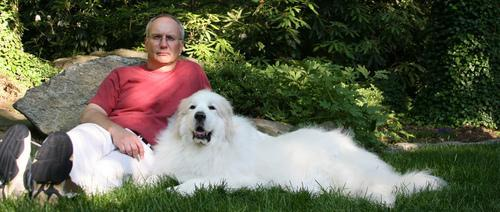Great_Pyrenees: (142, 91, 448, 209)
